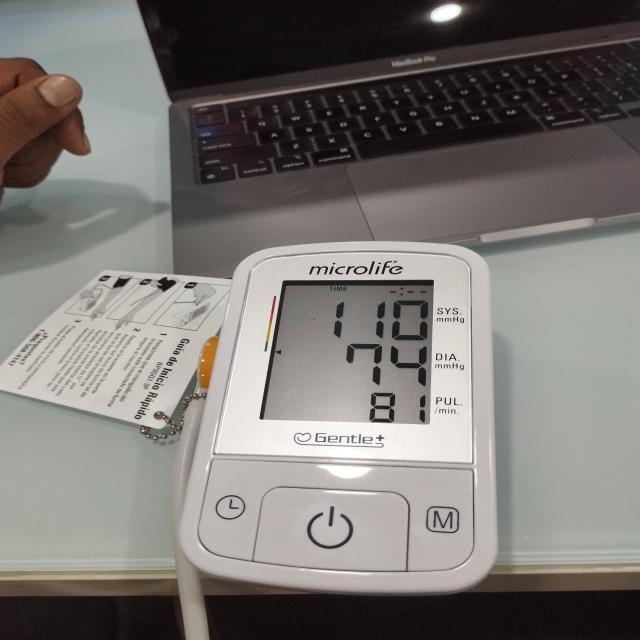bp: (175, 244, 499, 596)
